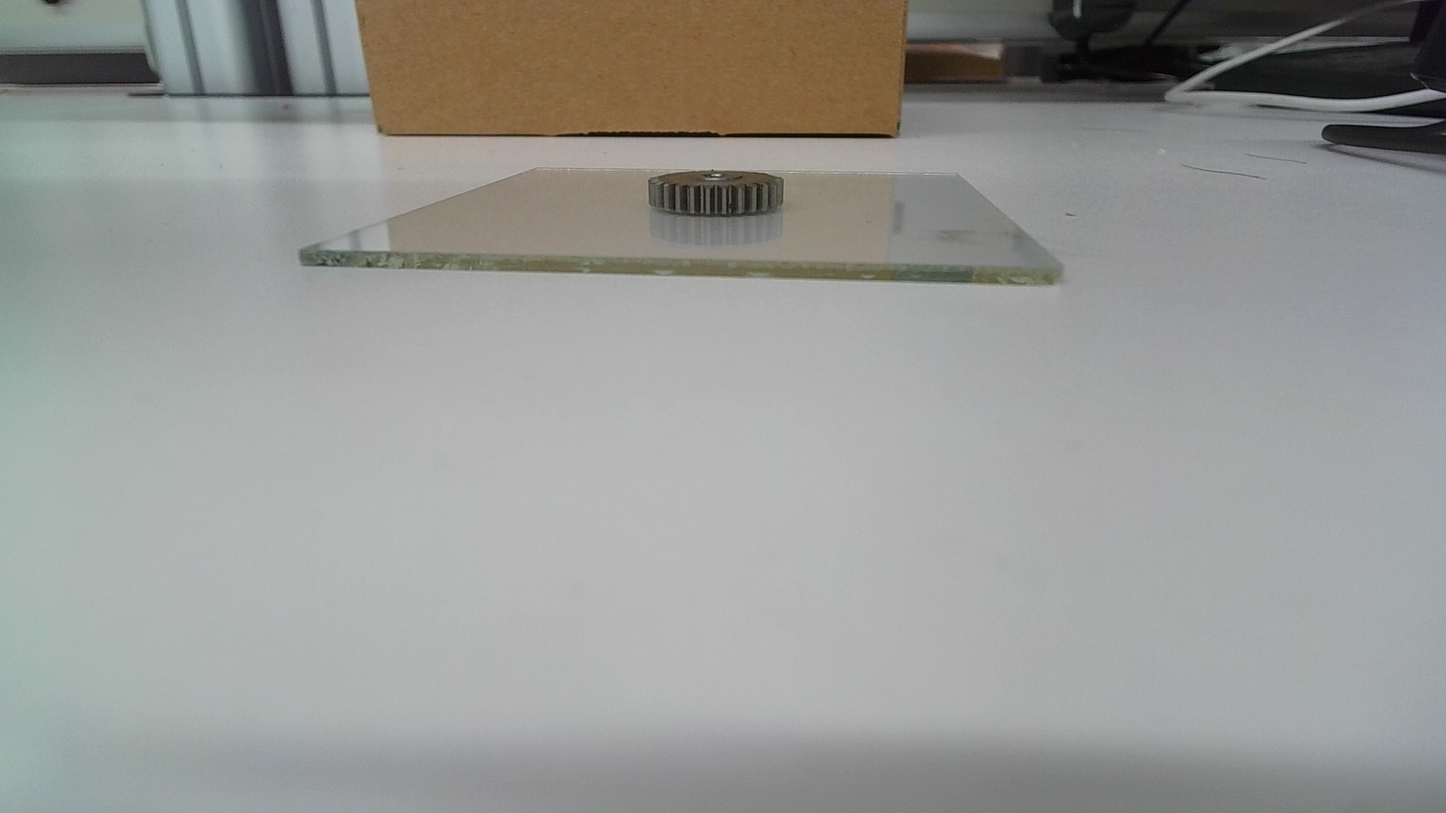gear: (643, 171, 789, 219)
